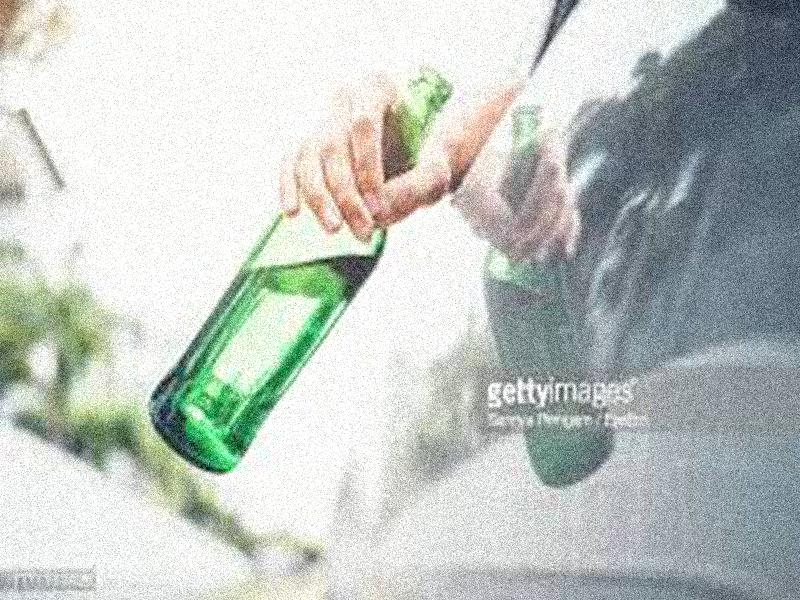Beer: (151, 69, 457, 475)
